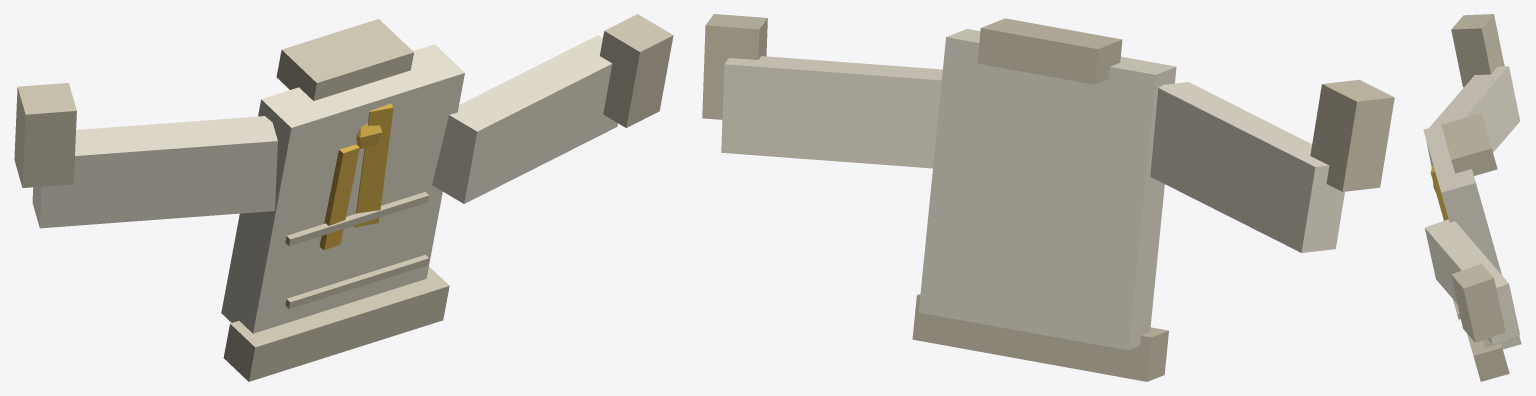
Rendered from boss_grab_clothes_b09.glb.
The picture shows the model from 3 angles, left to right: view 1: azimuth 30°, elevation 25°; view 2: azimuth 150°, elevation 25°; view 3: azimuth 270°, elevation 25°; orthographic projection. The views are drawn at different scales.
Visible parts, largest first — view 1: boss_grab_clothes_b09; view 2: boss_grab_clothes_b09; view 3: boss_grab_clothes_b09.
Part boxes in pixels (bbox=[...]): boss_grab_clothes_b09: bbox=[14, 14, 673, 381]; boss_grab_clothes_b09: bbox=[702, 14, 1394, 381]; boss_grab_clothes_b09: bbox=[1423, 14, 1521, 381].
Bounding box in the file's own units: 1.72 × 0.8346 × 0.3276.
